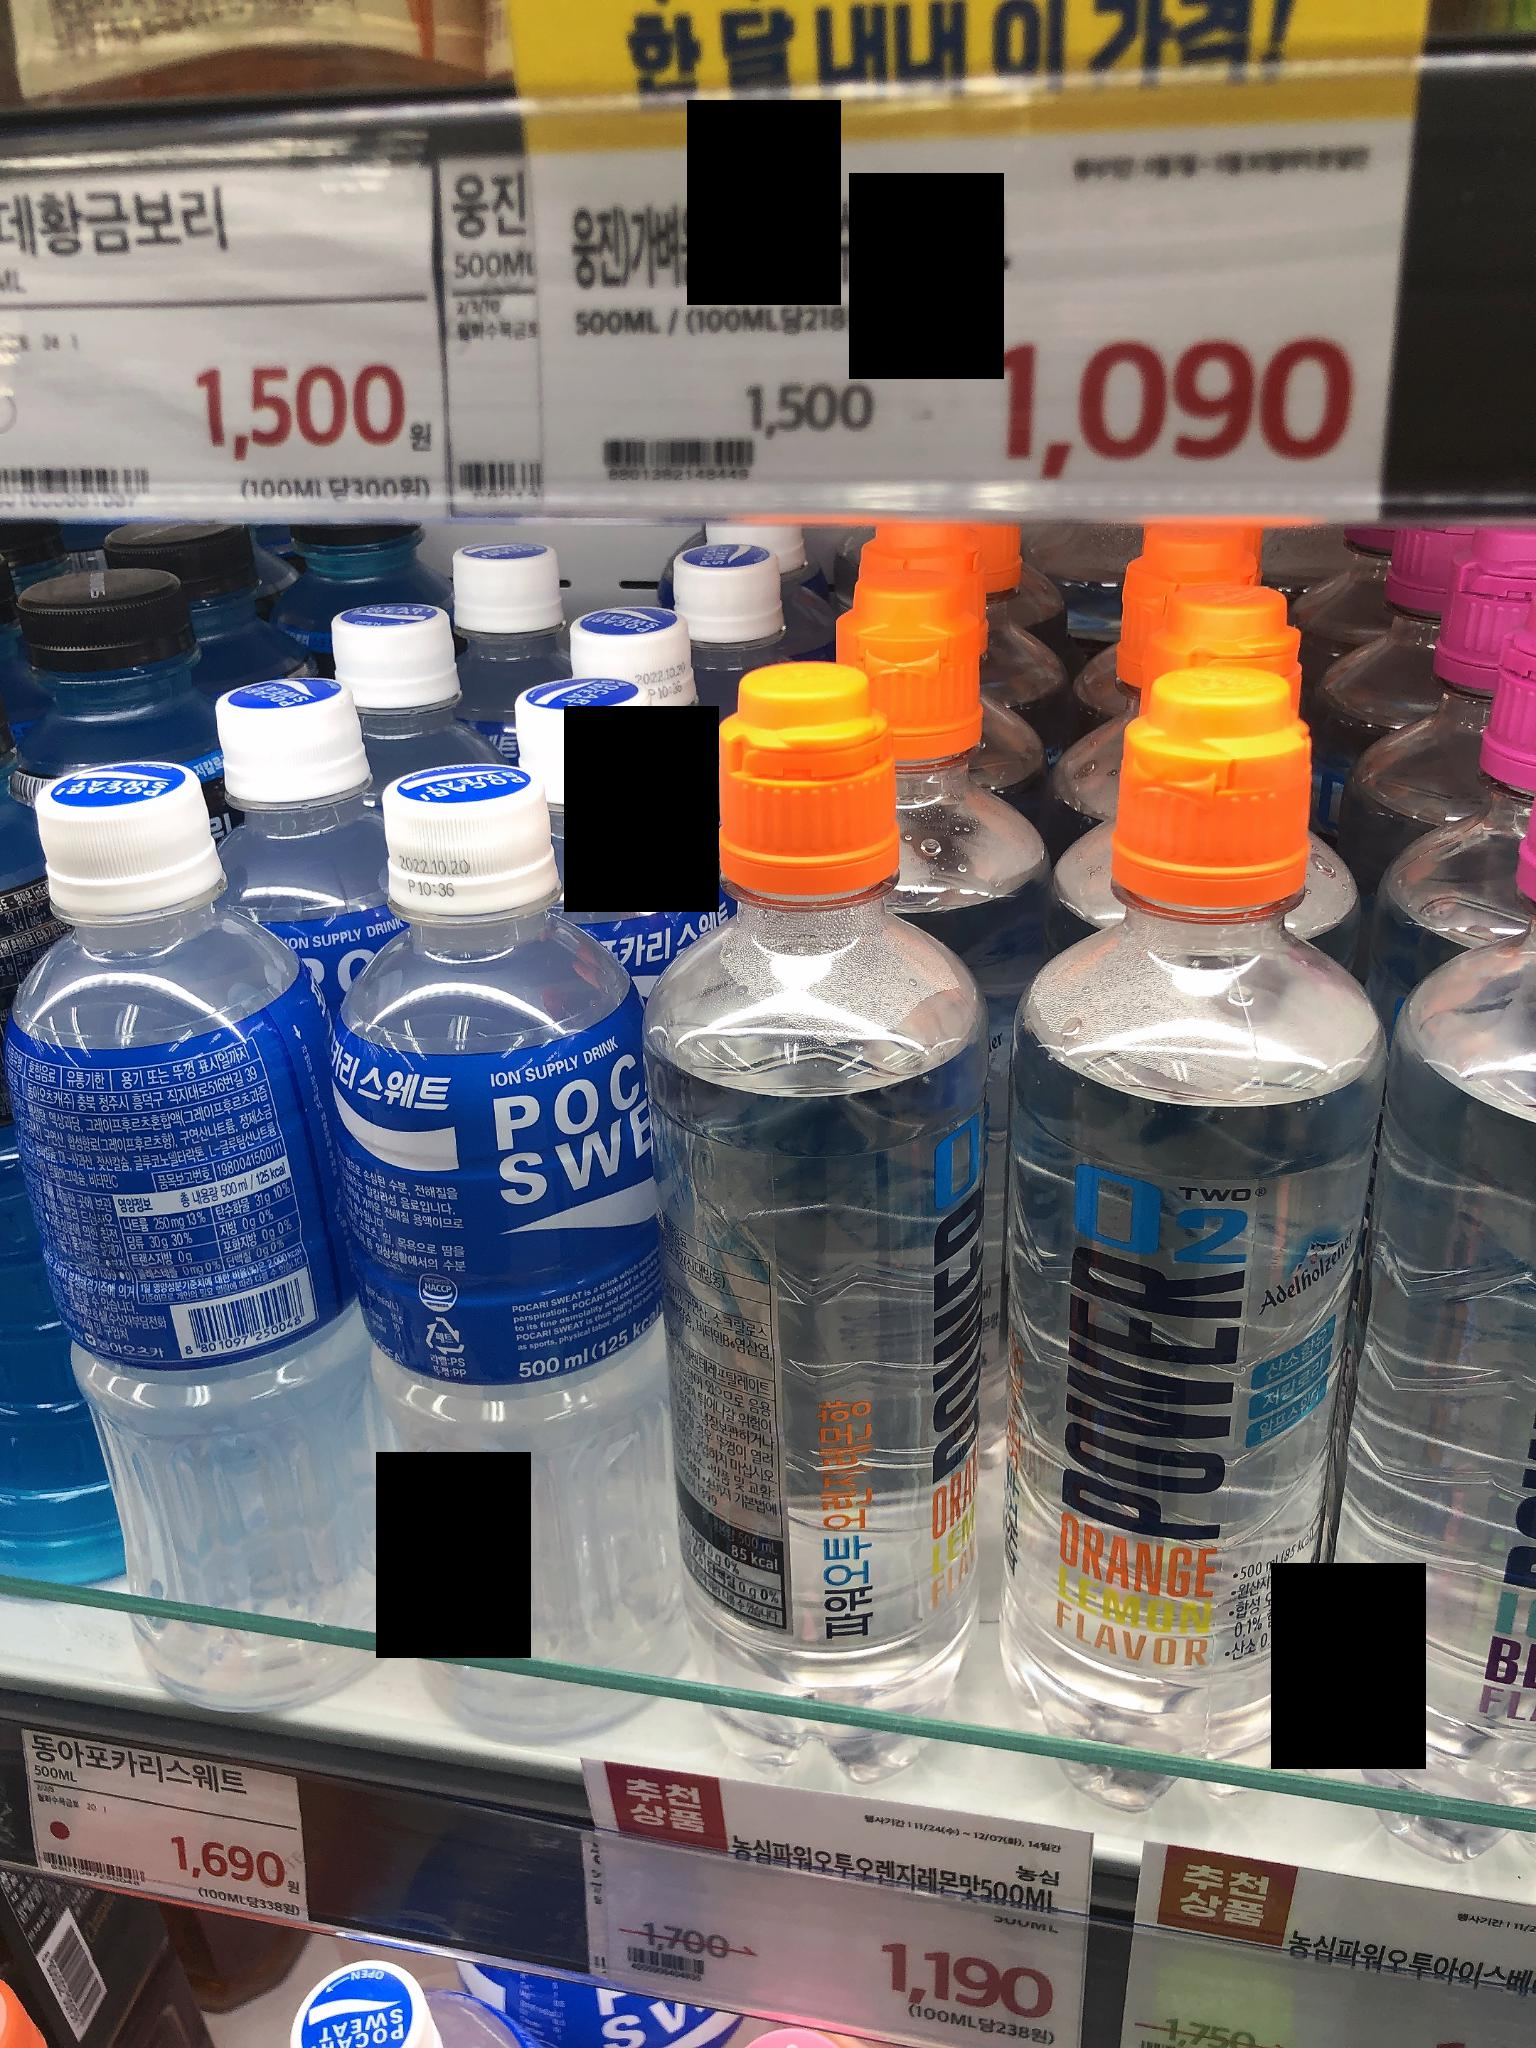pocarisweat: (350, 747, 681, 1745), (39, 761, 376, 1705)
powerO2_orange: (976, 684, 1378, 1780), (600, 684, 992, 1751)
